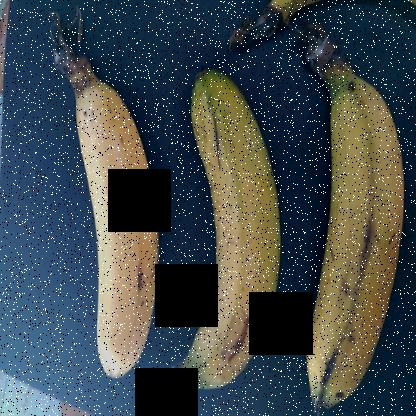freshripe: (47, 57, 164, 392)
ripe: (301, 60, 406, 415), (175, 42, 277, 388)
